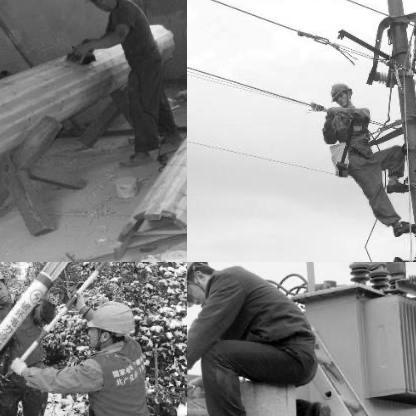Helmet: (84, 296, 132, 350), (187, 262, 218, 306), (326, 78, 354, 106), (78, 0, 120, 12), (0, 264, 10, 305)
